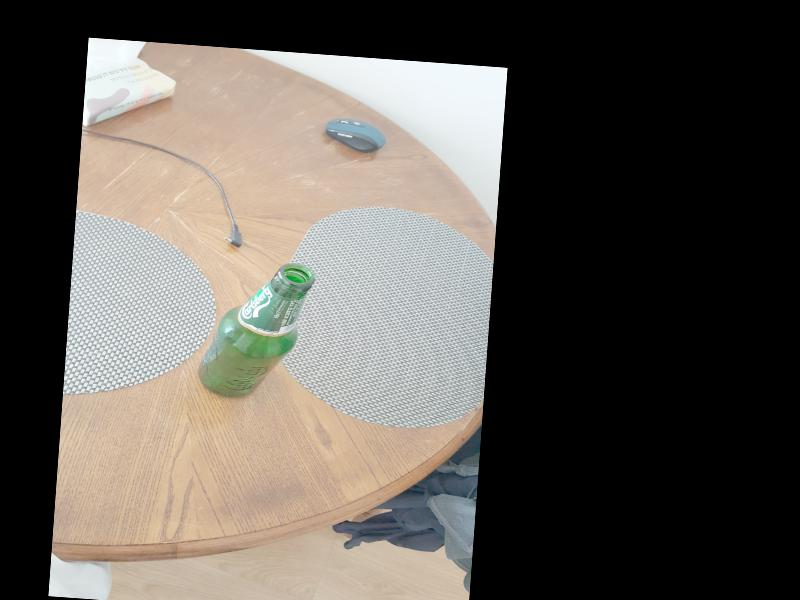Beer: (191, 257, 316, 405)
